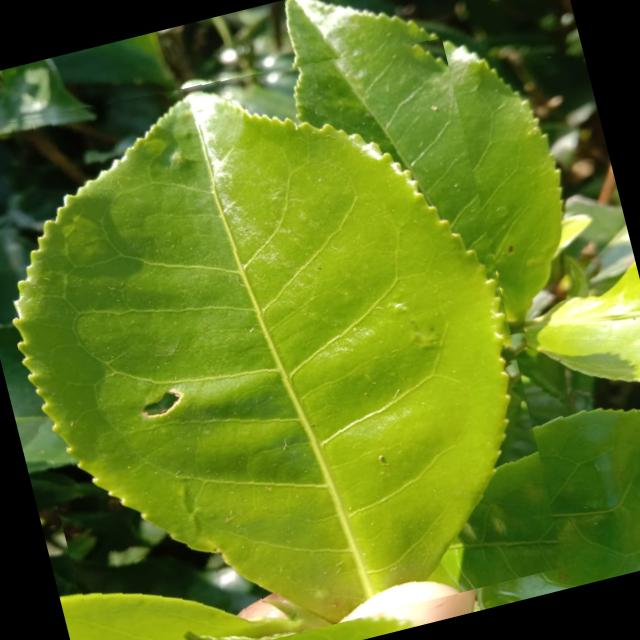Category B(2-4 days): (0, 13, 572, 640)
